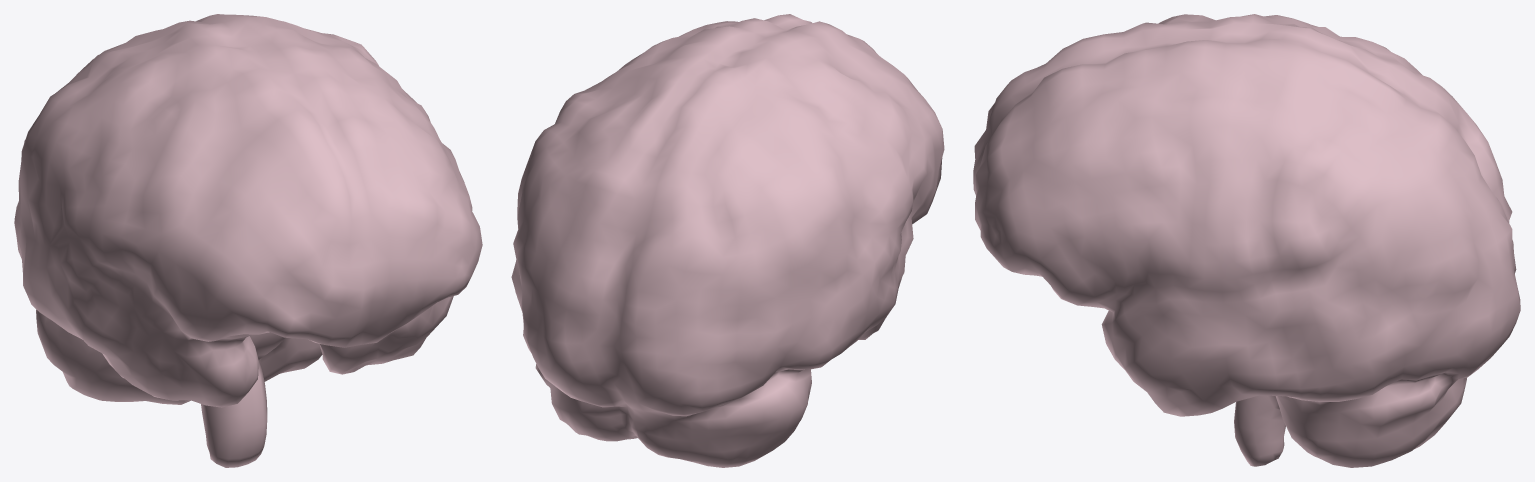
File: brain.glb
The picture shows the model from 3 angles, left to right: view 1: azimuth 30°, elevation 25°; view 2: azimuth 150°, elevation 25°; view 3: azimuth 270°, elevation 25°; orthographic projection. The views are drawn at different scales.
Visible parts, largest first — view 1: brain.1_1; view 2: brain.1_1; view 3: brain.1_1.
Boxes of the visible parts, bbox=[...] form: brain.1_1: bbox=[14, 14, 482, 467]; brain.1_1: bbox=[511, 14, 944, 467]; brain.1_1: bbox=[973, 14, 1520, 467].
Size of the model in its own units: 0.7609 by 0.8546 by 0.991.
